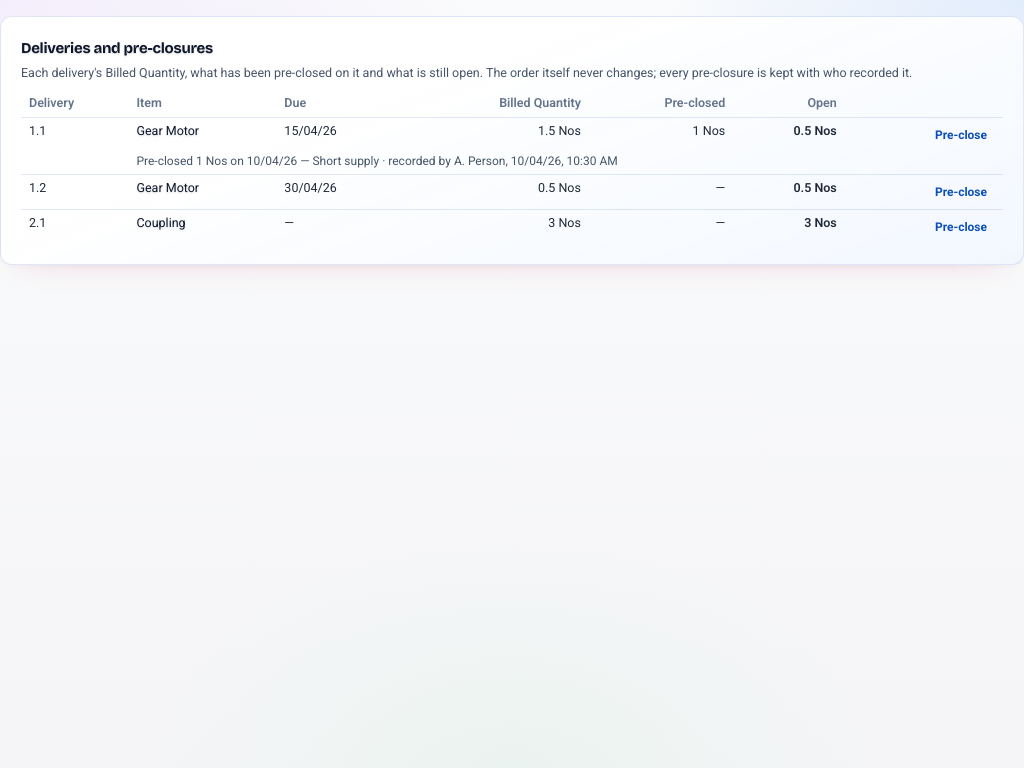
Scenario: the order page's deliveries and pre-closures › sends one submission with its own request id, once, however many times it is clicked; a repeat is said to be one
Click the button with aria-label "Pre-close delivery 1.2" at (961,192), box x1=927 y1=179 x2=995 y2=205
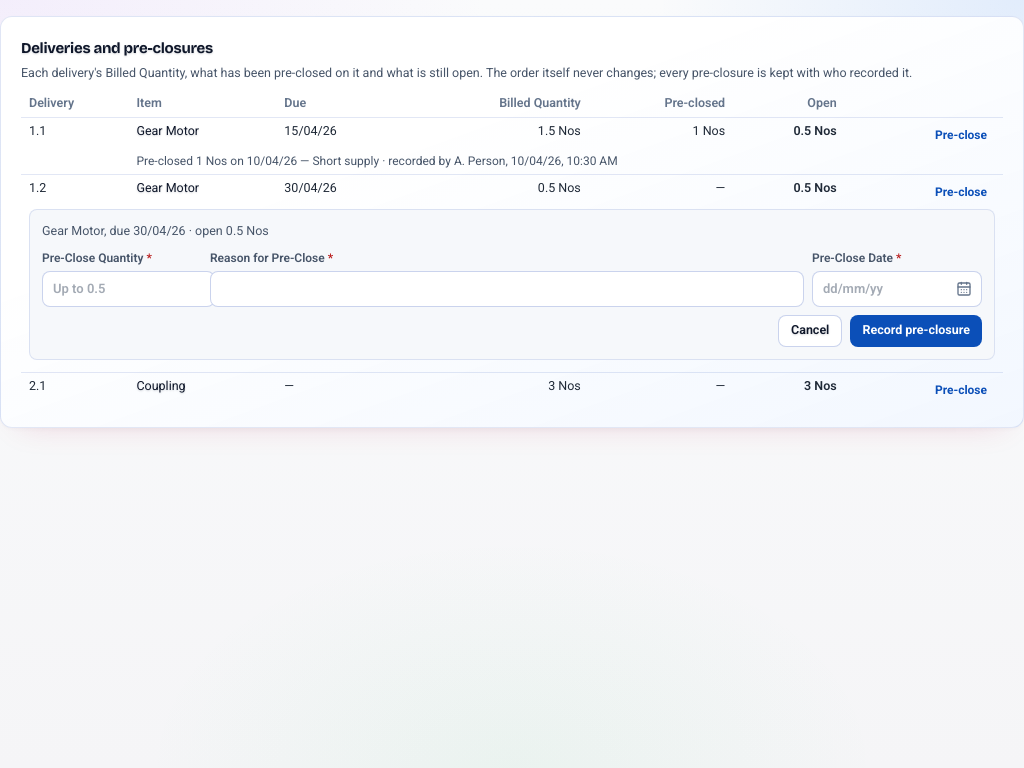
Type "0.5" into the field labelled "Pre-Close Quantity" at (128,289), box x1=42 y1=271 x2=215 y2=307
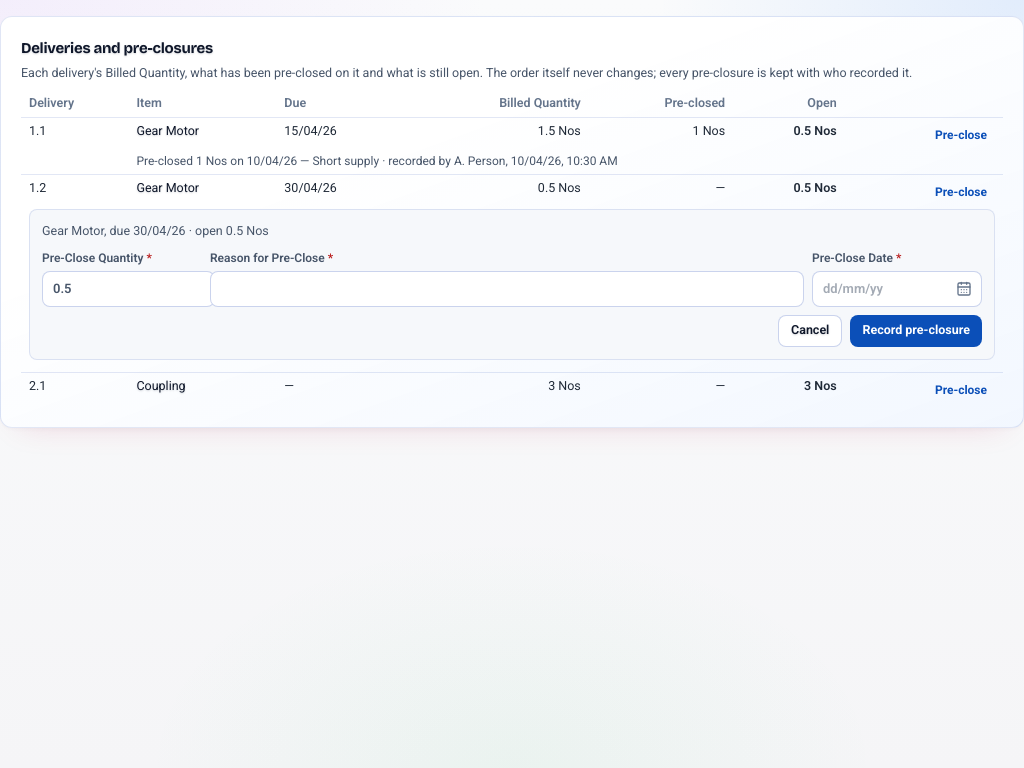
Type "Not needed" into the field labelled "Reason for Pre-Close" at (507,289), box x1=210 y1=271 x2=804 y2=307
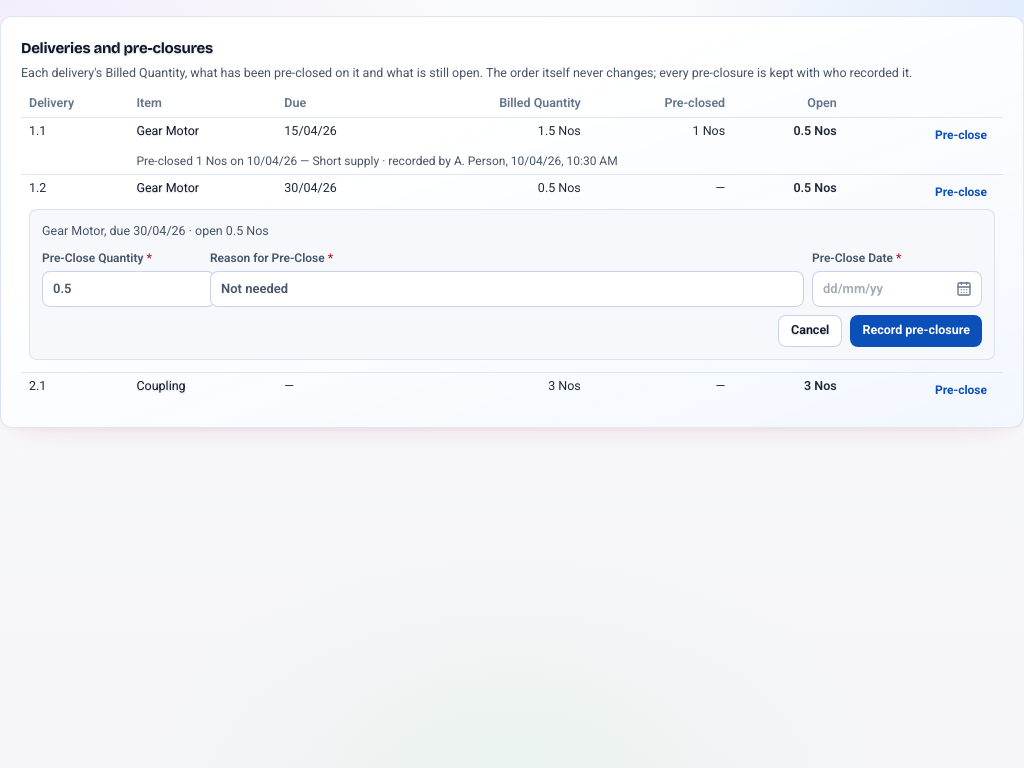
Type "20/04/26" into the field labelled "Pre-Close Date" at (897,289), box x1=812 y1=271 x2=982 y2=307
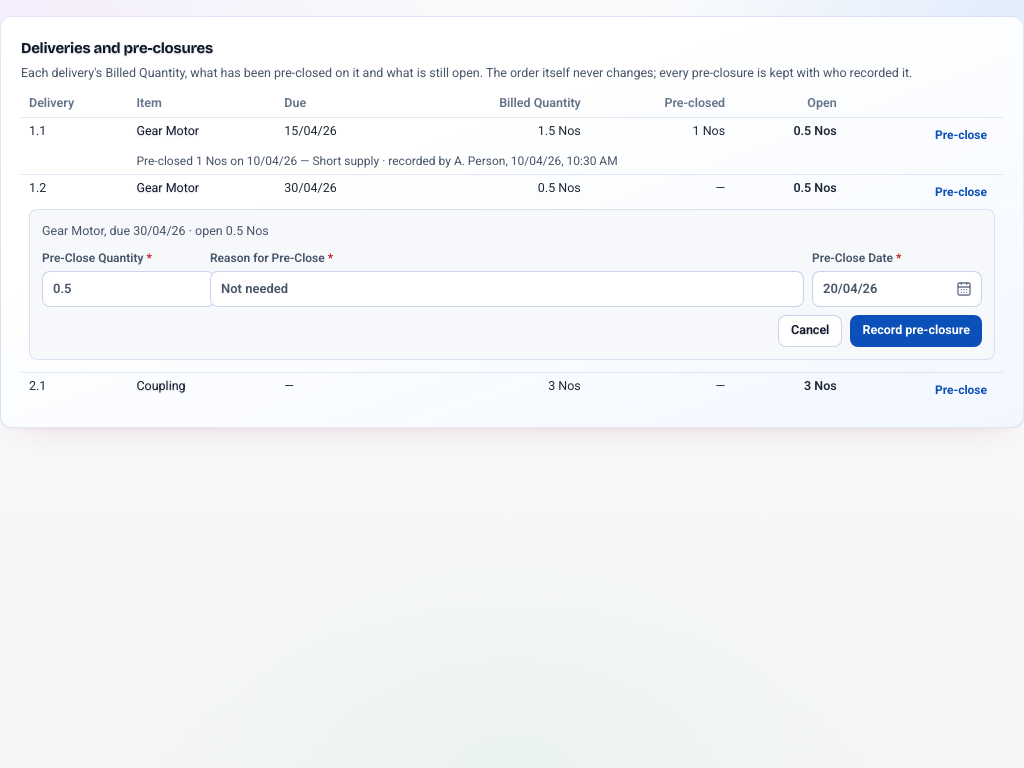
Click the button "Record pre-closure" at (916,331), box x1=850 y1=315 x2=982 y2=347
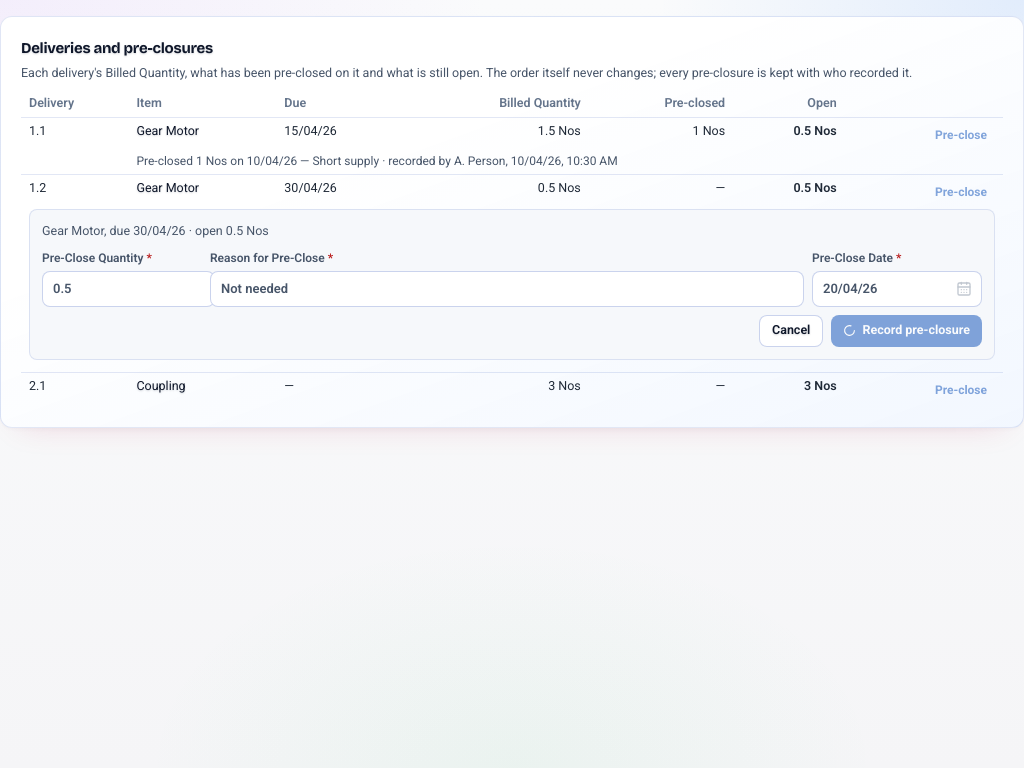
Click the button "Record pre-closure" at (907,331), box x1=831 y1=315 x2=982 y2=347
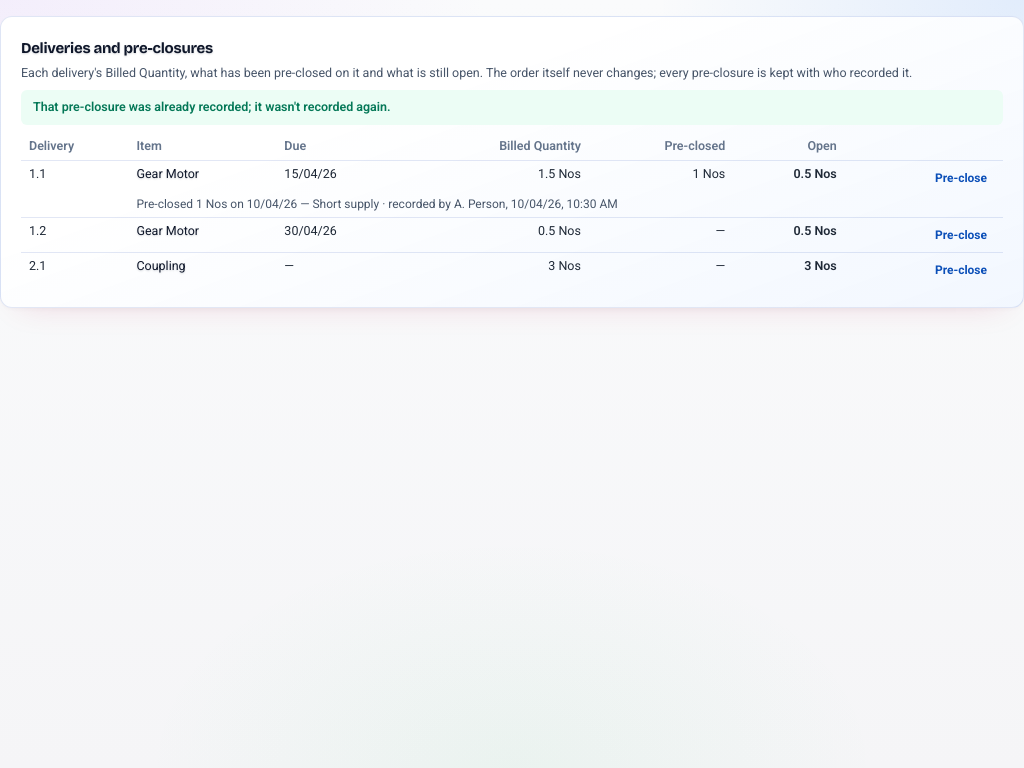
Check: the message shows "already recorded; it wasn't recorded again", box x1=33 y1=99 x2=391 y2=114
